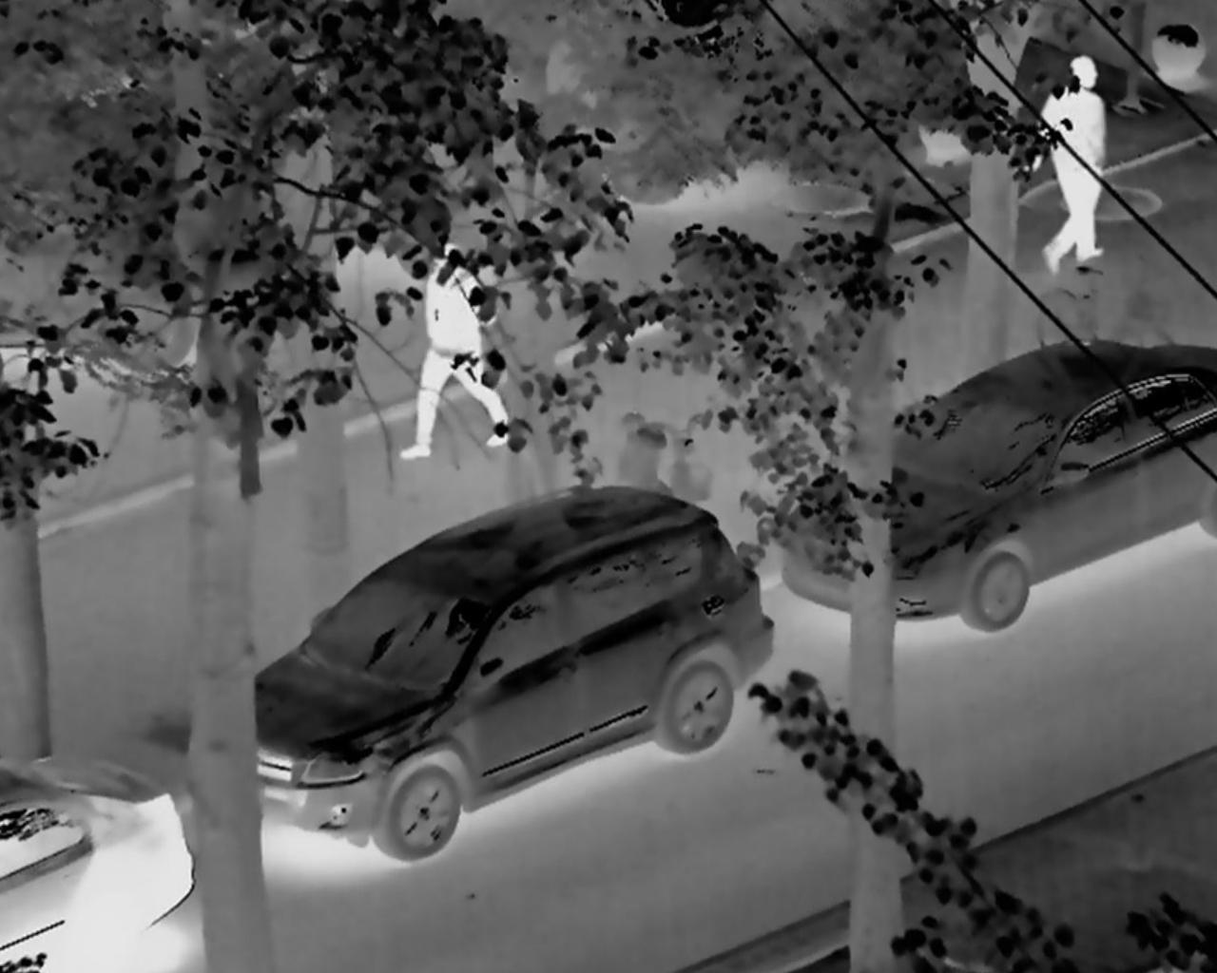person: (392, 228, 548, 477), (1025, 48, 1137, 297)
